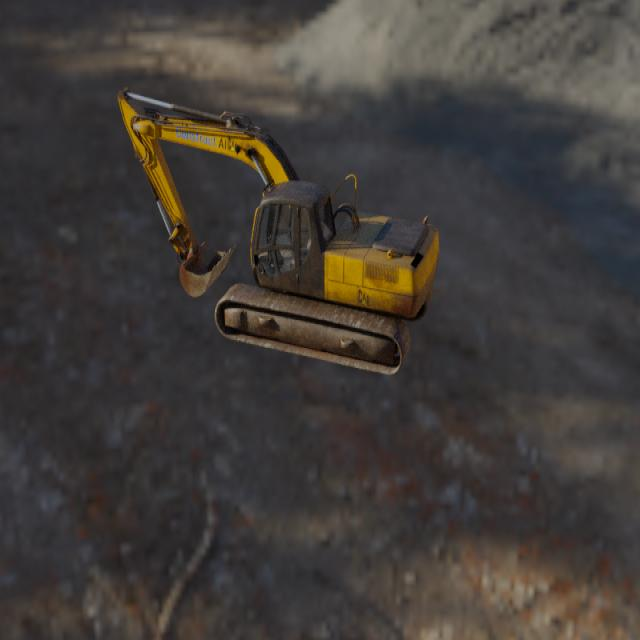excavator: (117, 85, 440, 376)
